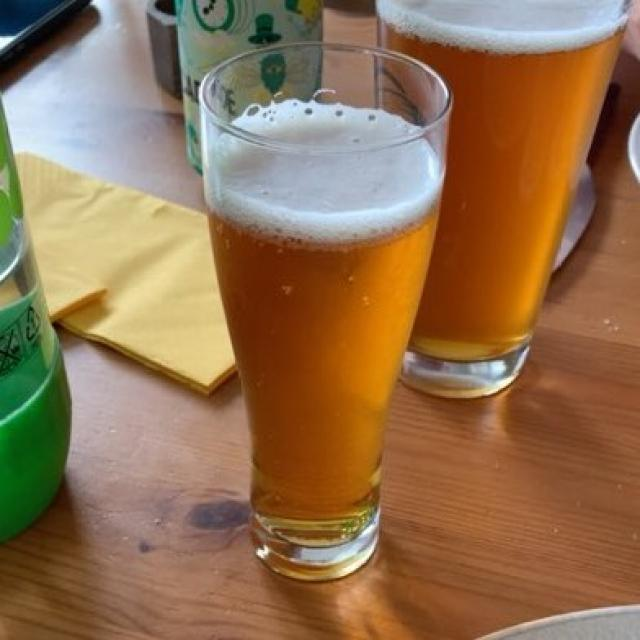beer: (210, 10, 618, 557)
